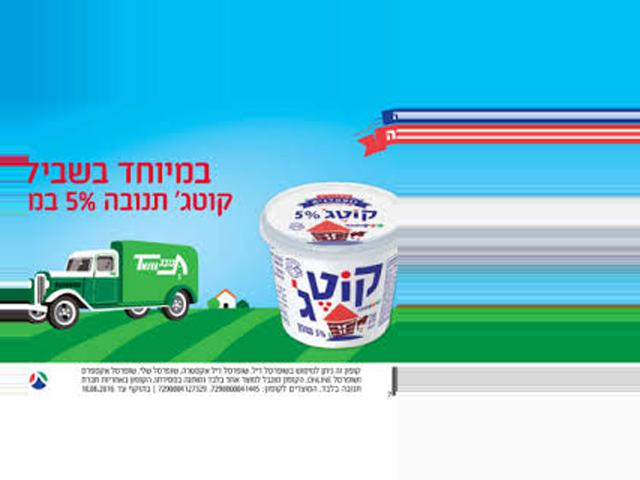cotage: (260, 179, 394, 349)
